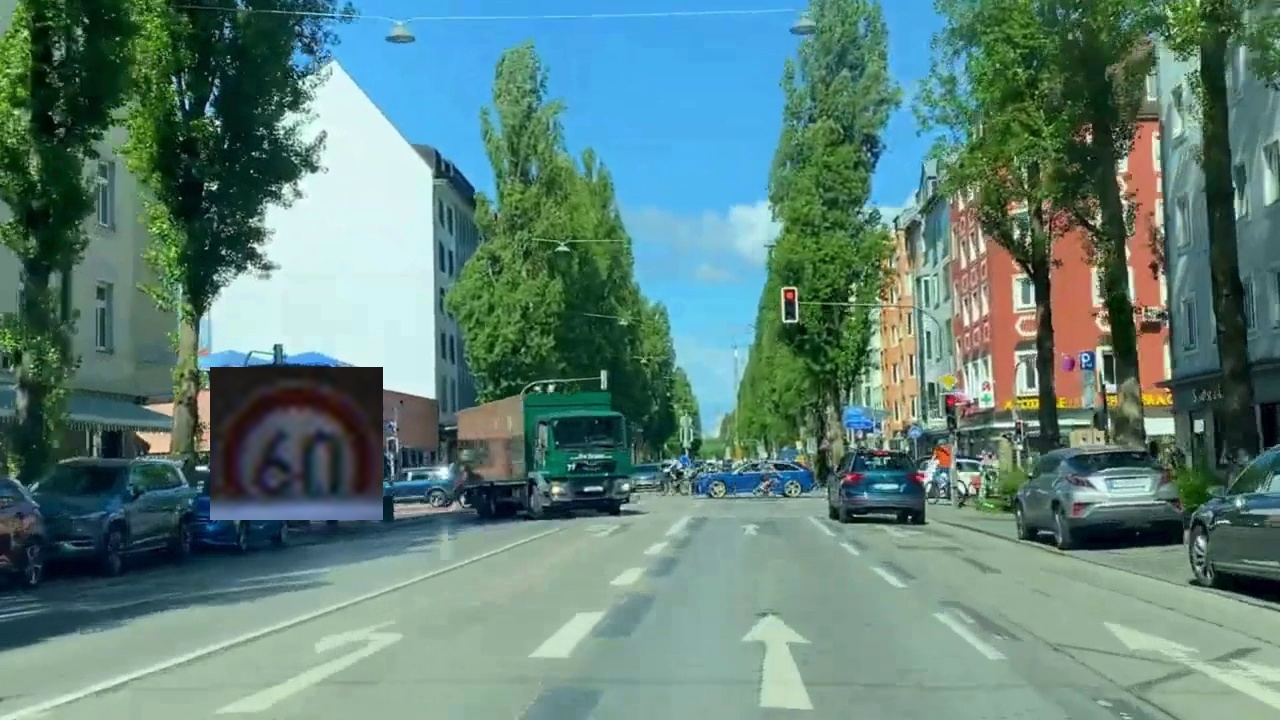Speed 60: (210, 367, 383, 520)
